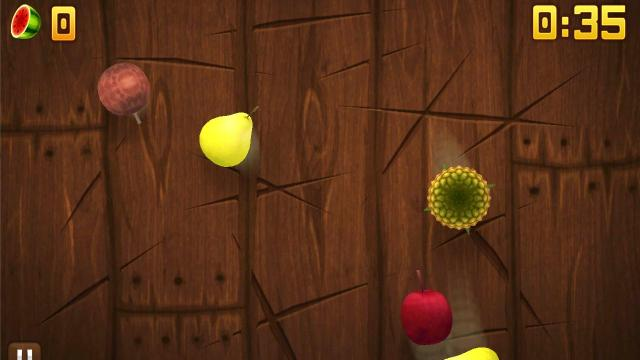fruit: (422, 163, 494, 234), (96, 61, 152, 125), (199, 111, 253, 167), (401, 288, 453, 346)
ignore: (8, 3, 42, 41)
